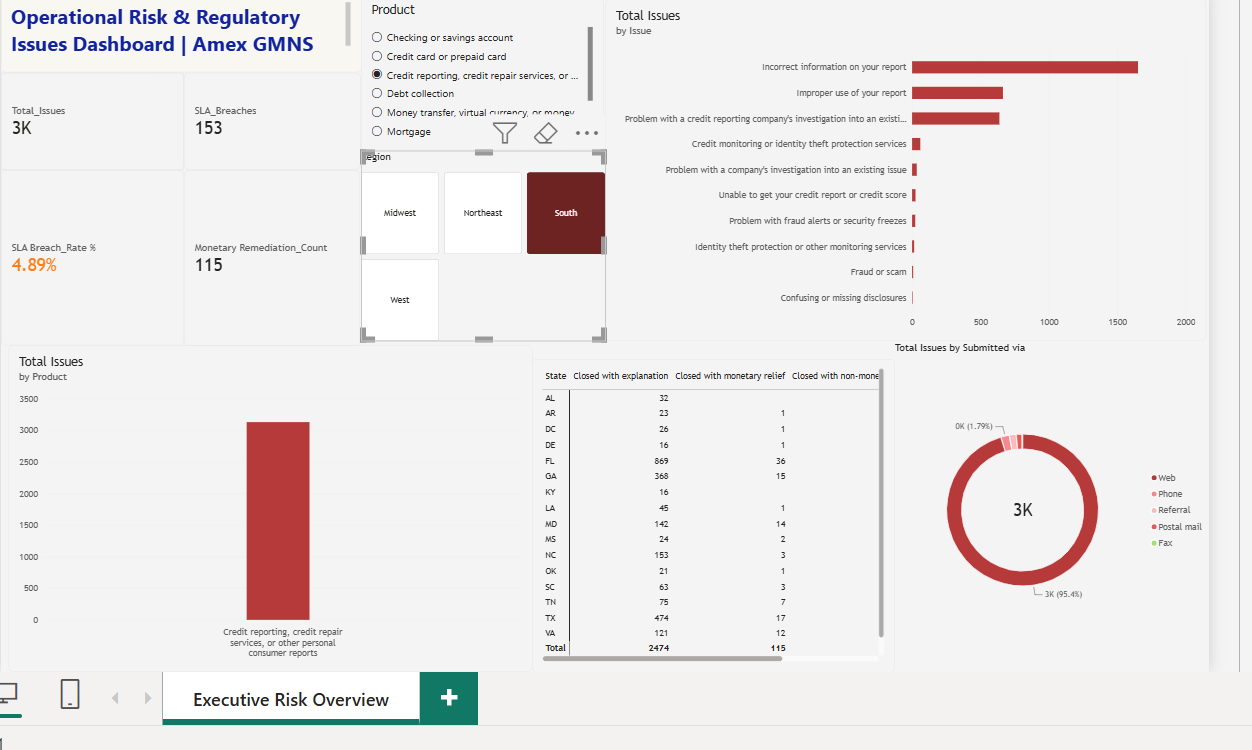

The dashboard page shown, as its layout file describes it:
{"tool":"powerbi","page":{"name":"Executive Risk Overview","canvas":[1920,1080],"ordinal":0},"visuals":[{"type":"cardVisual","fields":{"Data":["_Measures.Total_Issues"]},"box":[0,126.3,291.5,155.4],"z":0},{"type":"cardVisual","fields":{"Data":["_Measures.SLA_Breaches"]},"box":[291.5,126.3,281.7,155.4],"z":1000},{"type":"cardVisual","fields":{"Data":["_Measures.Monetary Remediation_Count"]},"box":[292,280.6,280.6,280.6],"z":2000},{"type":"cardVisual","fields":{"Data":["_Measures.SLA Breach_Rate %"]},"box":[0,281.7,291.5,279.3],"z":3000},{"type":"clusteredBarChart","fields":{"Category":["Real_CFPB_Consumer_Complaints.Issue"],"Y":["Real_CFPB_Consumer_Complaints.Total Issues"]},"box":[961,8.5,955.3,544.3],"z":4000},{"type":"donutChart","fields":{"Category":["Real_CFPB_Consumer_Complaints.Submitted via"],"Y":["Real_CFPB_Consumer_Complaints.Total Issues"]},"box":[1420.9,553.8,497.9,502.8],"z":5000},{"type":"clusteredColumnChart","fields":{"Category":["Real_CFPB_Consumer_Complaints.Product"],"Y":["Real_CFPB_Consumer_Complaints.Total Issues"]},"box":[11.3,561.3,833.4,518.7],"z":6000},{"type":"pivotTable","fields":{"Columns":["Real_CFPB_Consumer_Complaints.Company response to consumer"],"Rows":["Real_CFPB_Consumer_Complaints.State"],"Values":["Real_CFPB_Consumer_Complaints.Total Issues"]},"box":[844.6,582.2,577.4,498.7],"z":7000},{"type":"listSlicer","fields":{"Values":["Real_CFPB_Consumer_Complaints.Product"]},"box":[573.2,0,386.2,250.2],"z":8000},{"type":"advancedSlicerVisual","fields":{"Values":["Dim_Geography.Region"]},"box":[572.6,250.5,388.9,303],"z":9000},{"type":"textbox","box":[0,0,573.2,126.3],"z":10000}]}

Visuals, with their boxes on the page's 1920x1080 design canvas (x1, y1, x2, y2). These are canvas units, not pixel positions in the 1252x750 screenshot, which may show the page scaled, cropped or inside an application window:
cardVisual - _Measures.Total_Issues: bbox=(0, 126, 292, 282)
cardVisual - _Measures.SLA_Breaches: bbox=(292, 126, 573, 282)
cardVisual - _Measures.Monetary Remediation_Count: bbox=(292, 281, 573, 561)
cardVisual - _Measures.SLA Breach_Rate %: bbox=(0, 282, 292, 561)
clusteredBarChart - Real_CFPB_Consumer_Complaints.Issue x Real_CFPB_Consumer_Complaints.Total Issues: bbox=(961, 8, 1916, 553)
donutChart - Real_CFPB_Consumer_Complaints.Submitted via x Real_CFPB_Consumer_Complaints.Total Issues: bbox=(1421, 554, 1919, 1057)
clusteredColumnChart - Real_CFPB_Consumer_Complaints.Product x Real_CFPB_Consumer_Complaints.Total Issues: bbox=(11, 561, 845, 1080)
pivotTable - Real_CFPB_Consumer_Complaints.Company response to consumer x Real_CFPB_Consumer_Complaints.State: bbox=(845, 582, 1422, 1081)
listSlicer - Real_CFPB_Consumer_Complaints.Product: bbox=(573, 0, 959, 250)
advancedSlicerVisual - Dim_Geography.Region: bbox=(573, 250, 962, 554)
textbox: bbox=(0, 0, 573, 126)
